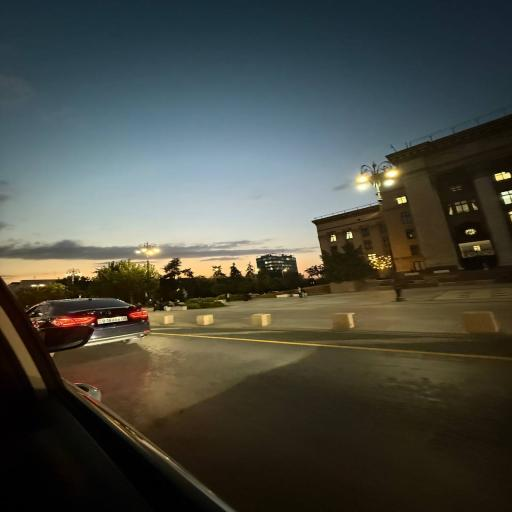bottle: (0, 279, 233, 511), (28, 298, 149, 342), (248, 293, 259, 296)
ramp: (55, 329, 511, 511), (172, 285, 511, 333)
